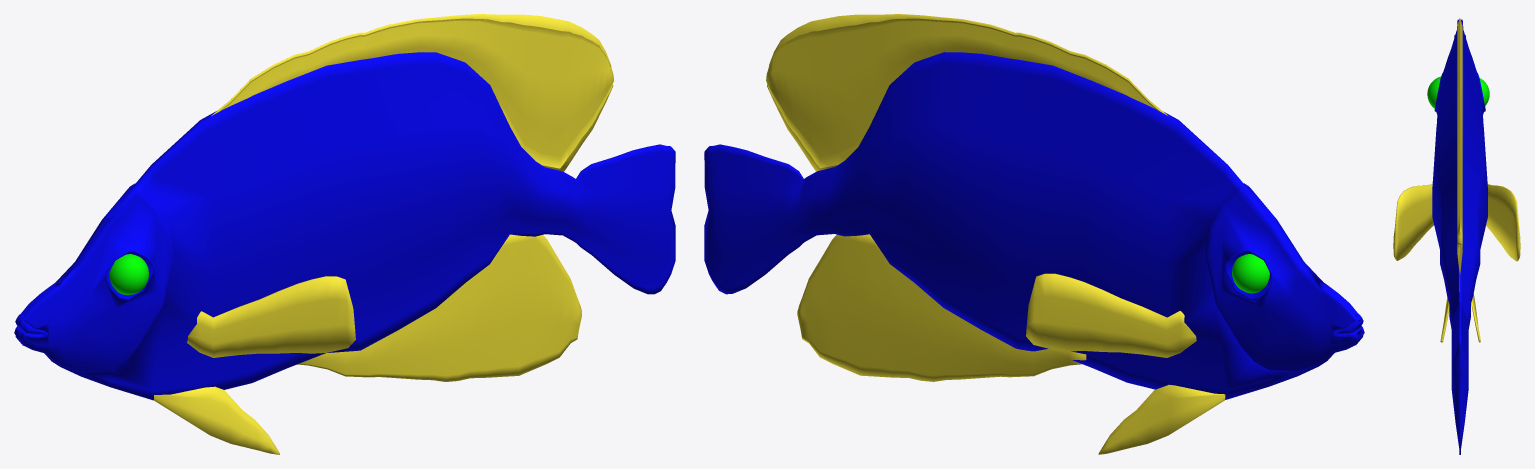
File: fish.obj
3 renders of one model, left to right at view 1: azimuth 30°, elevation 25°; view 2: azimuth 150°, elevation 25°; view 3: azimuth 270°, elevation 25°, orthographic. The views are drawn at different scales.
Visible parts, largest first — view 1: Cube_Cube.001, Plane.001, Plane, Plane.004, Plane.002, Sphere; view 2: Cube_Cube.001, Plane.001, Plane, Plane.005, Plane.003, Sphere.001; view 3: Cube_Cube.001, Plane.004, Plane.005, Plane.001, Sphere, Plane.003, Plane.002, Sphere.001.
Boxes of the visible parts, bbox=[...] form: Cube_Cube.001: bbox=[14, 52, 675, 400]; Plane.001: bbox=[211, 14, 613, 171]; Plane: bbox=[297, 234, 581, 381]; Plane.004: bbox=[187, 276, 355, 357]; Plane.002: bbox=[154, 386, 279, 454]; Sphere: bbox=[109, 254, 148, 295]; Cube_Cube.001: bbox=[704, 52, 1364, 399]; Plane.001: bbox=[766, 14, 1167, 171]; Plane: bbox=[797, 234, 1086, 381]; Plane.005: bbox=[1026, 273, 1196, 357]; Plane.003: bbox=[1098, 384, 1225, 454]; Sphere.001: bbox=[1232, 254, 1269, 293]; Cube_Cube.001: bbox=[1432, 19, 1487, 454]; Plane.004: bbox=[1393, 184, 1433, 260]; Plane.005: bbox=[1486, 184, 1520, 261]; Plane.001: bbox=[1457, 18, 1462, 291]; Sphere: bbox=[1427, 76, 1440, 108]; Plane.003: bbox=[1471, 294, 1480, 342]; Plane.002: bbox=[1440, 297, 1449, 342]; Sphere.001: bbox=[1479, 78, 1489, 105].
Size of the model in its own units: 4.89 by 2.8 by 0.9524.
Materials: 3 (3 with a texture image).
